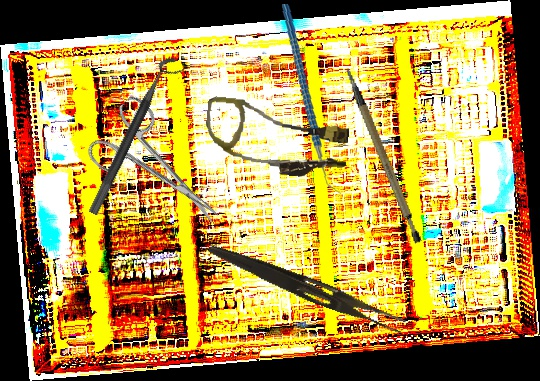Cannula: (201, 95, 352, 182)
Chopper: (263, 3, 360, 195)
Dressing Forceps: (203, 241, 410, 335)
Fixation Ring: (87, 53, 188, 223)
Iris Scissors: (80, 92, 240, 250)
Scalpel Handle: (344, 57, 425, 251)
